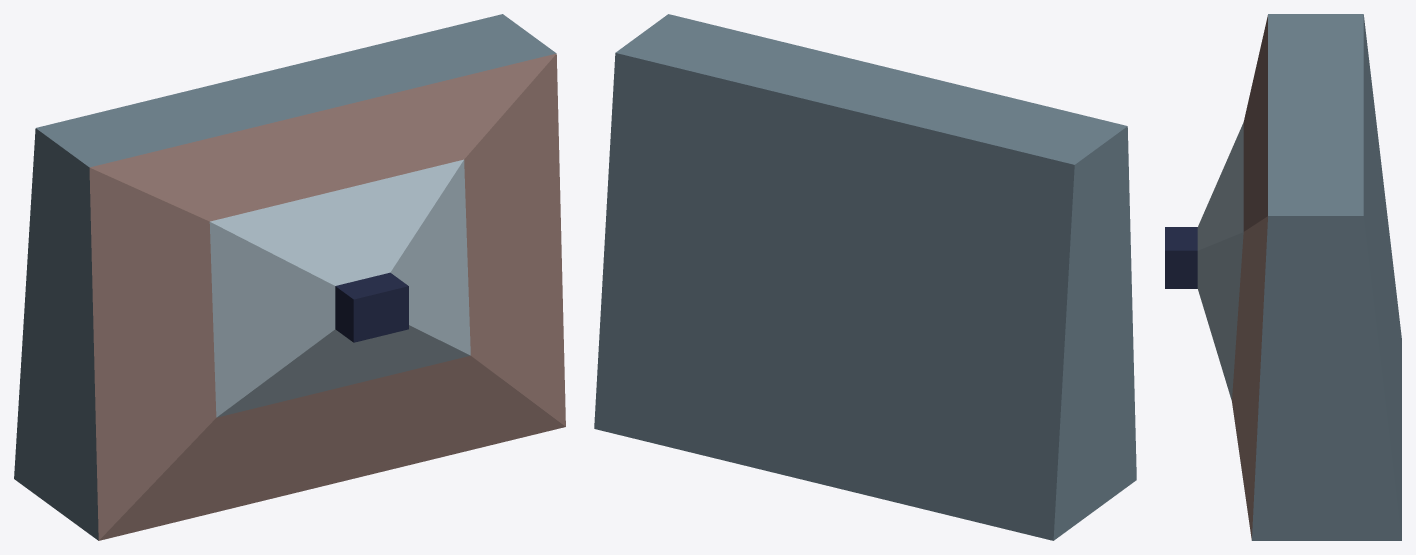
Rendered from EnemyGroundCannonAsset.fbx.
The picture shows the model from 3 angles, left to right: view 1: azimuth 30°, elevation 25°; view 2: azimuth 150°, elevation 25°; view 3: azimuth 270°, elevation 25°; orthographic projection. The views are drawn at different scales.
Visible parts, largest first — view 1: GroundCannon; view 2: GroundCannon; view 3: GroundCannon.
Part boxes in pixels (left/top/right/bottom): GroundCannon: left=14, top=14, right=565, bottom=540; GroundCannon: left=594, top=14, right=1136, bottom=540; GroundCannon: left=1165, top=14, right=1401, bottom=540.
Size of the model in its own units: 200 by 150 by 99.1.
